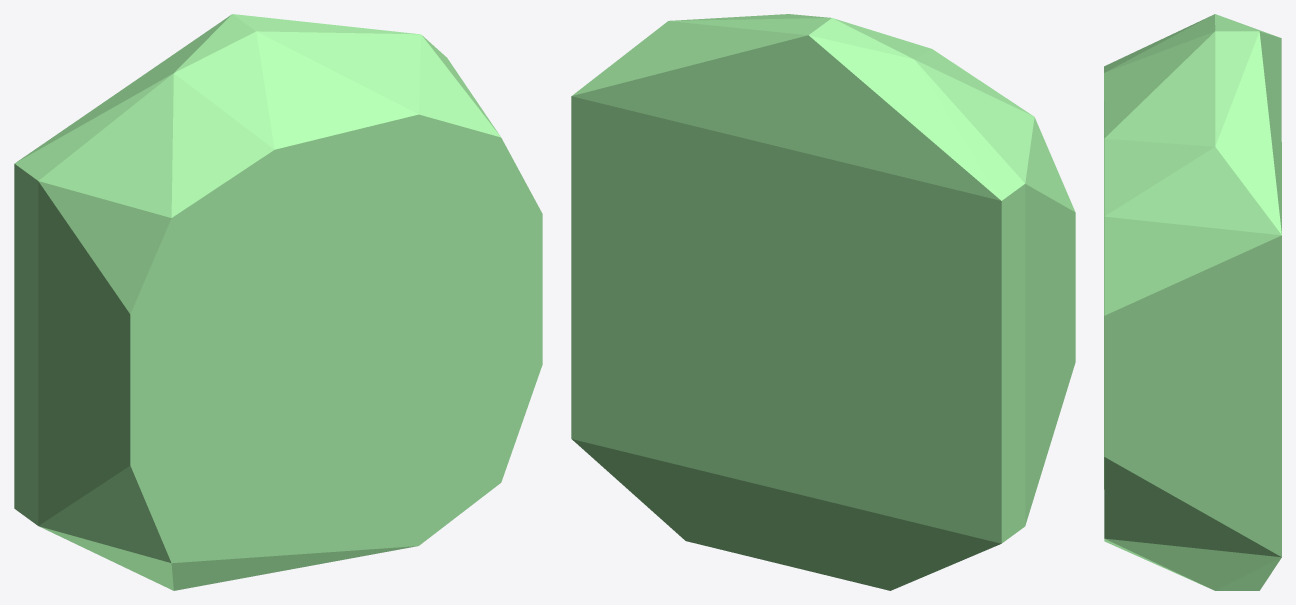
The model's file is dvkr_robot_robot_base_coll_13.dae.
3 renders of one model, left to right at view 1: azimuth 30°, elevation 25°; view 2: azimuth 150°, elevation 25°; view 3: azimuth 270°, elevation 25°, orthographic. The views are drawn at different scales.
Visible parts, largest first — view 1: Node_0000023514CD7BC0; view 2: Node_0000023514CD7BC0; view 3: Node_0000023514CD7BC0.
Boxes of the visible parts, x1,y1,x2,y2 form: Node_0000023514CD7BC0: (14,14,542,590); Node_0000023514CD7BC0: (571,14,1075,590); Node_0000023514CD7BC0: (1104,14,1281,590).
Bounding box in the file's own units: 0.2101 × 0.25 × 0.0801.
